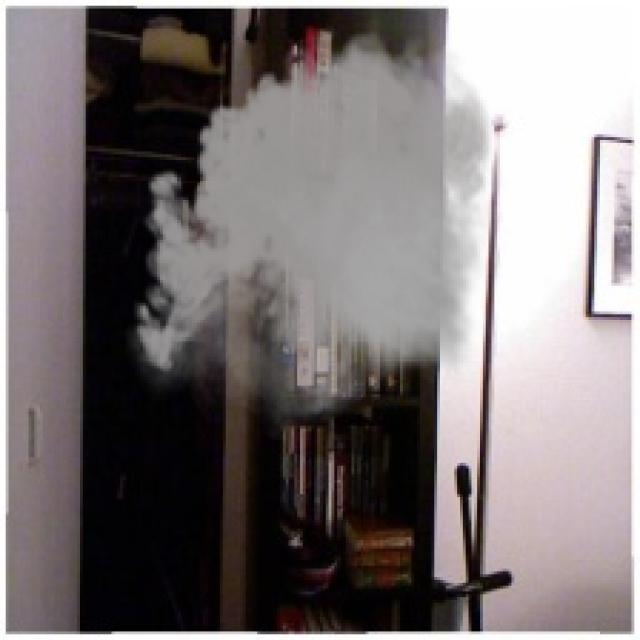smoke: (123, 17, 506, 440)
